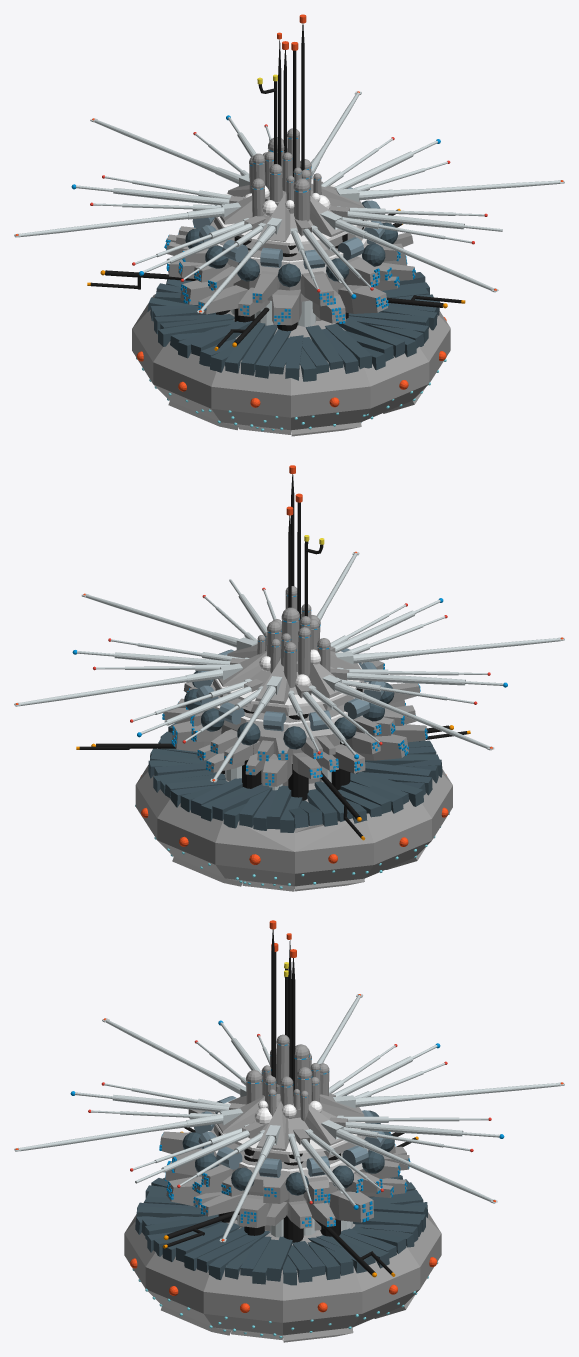
The model's file is UFO.glb.
3 views of the same model, one above another, from view 1: azimuth 30°, elevation 25°; view 2: azimuth 150°, elevation 25°; view 3: azimuth 270°, elevation 25° (orthographic).
Bounding box in the file's own units: 2.04 × 1.6 × 2.02.
